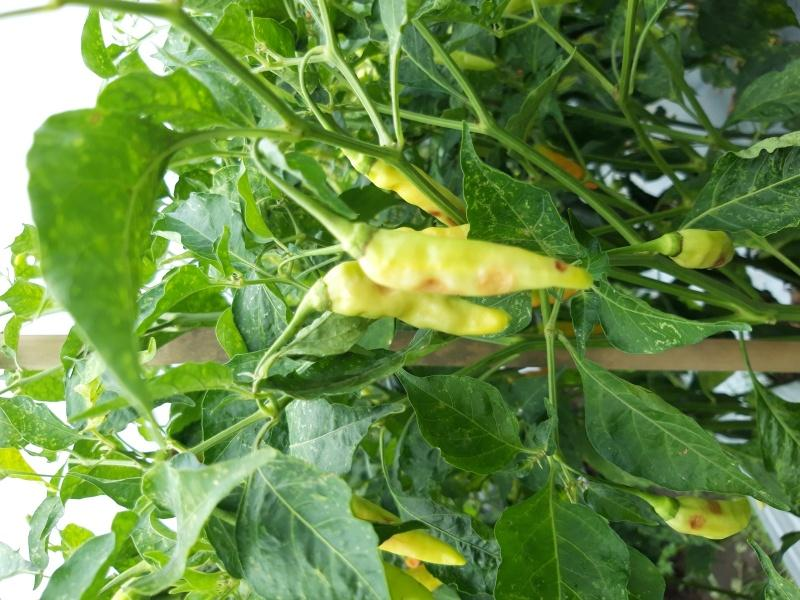antraknosa: (362, 227, 592, 294), (326, 260, 511, 336), (368, 158, 466, 226), (669, 491, 755, 540), (670, 228, 734, 272)
cabai_normal: (348, 492, 464, 567)
